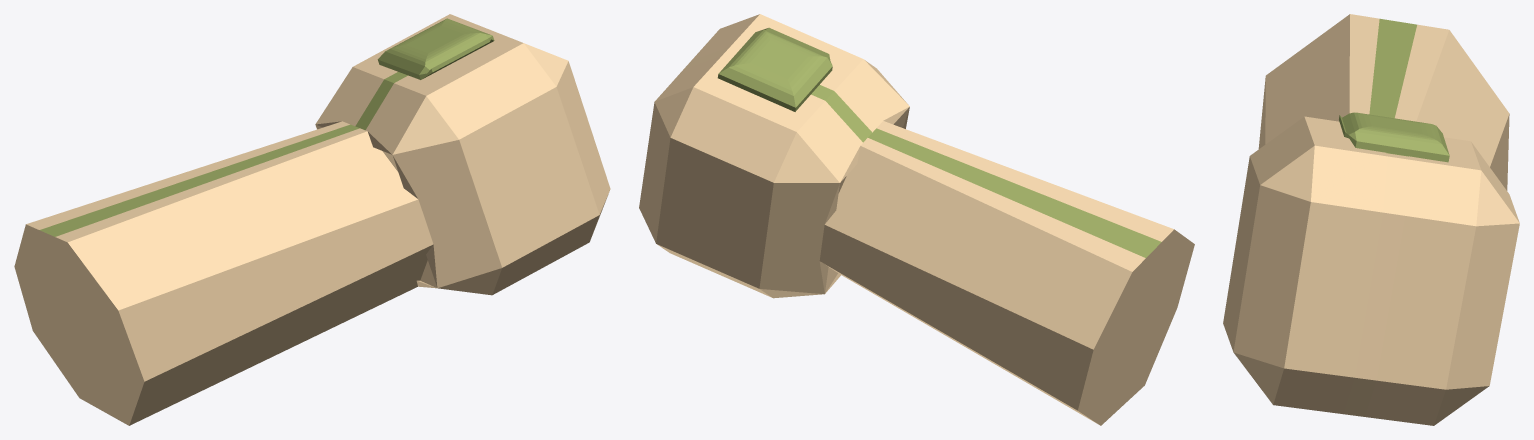
Rendered from leftarm.fbx.
3 renders of one model, left to right at view 1: azimuth 30°, elevation 25°; view 2: azimuth 150°, elevation 25°; view 3: azimuth 270°, elevation 25°, orthographic. The views are drawn at different scales.
Parts seen in each view (by area): view 1: Main Body, Orb; view 2: Main Body, Orb; view 3: Main Body, Orb.
Boxes of the visible parts, bbox=[...] form: Main Body: bbox=[14, 14, 610, 425]; Orb: bbox=[39, 18, 494, 236]; Main Body: bbox=[639, 14, 1194, 425]; Orb: bbox=[717, 27, 1161, 257]; Main Body: bbox=[1223, 14, 1519, 425]; Orb: bbox=[1339, 18, 1449, 162].
Size of the model in its own units: 240 by 131 by 102.
